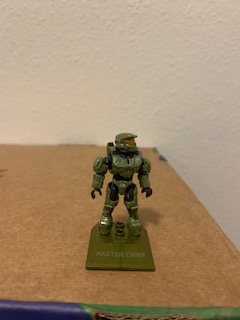chief: (90, 131, 154, 230)
spartan: (88, 129, 152, 228)
